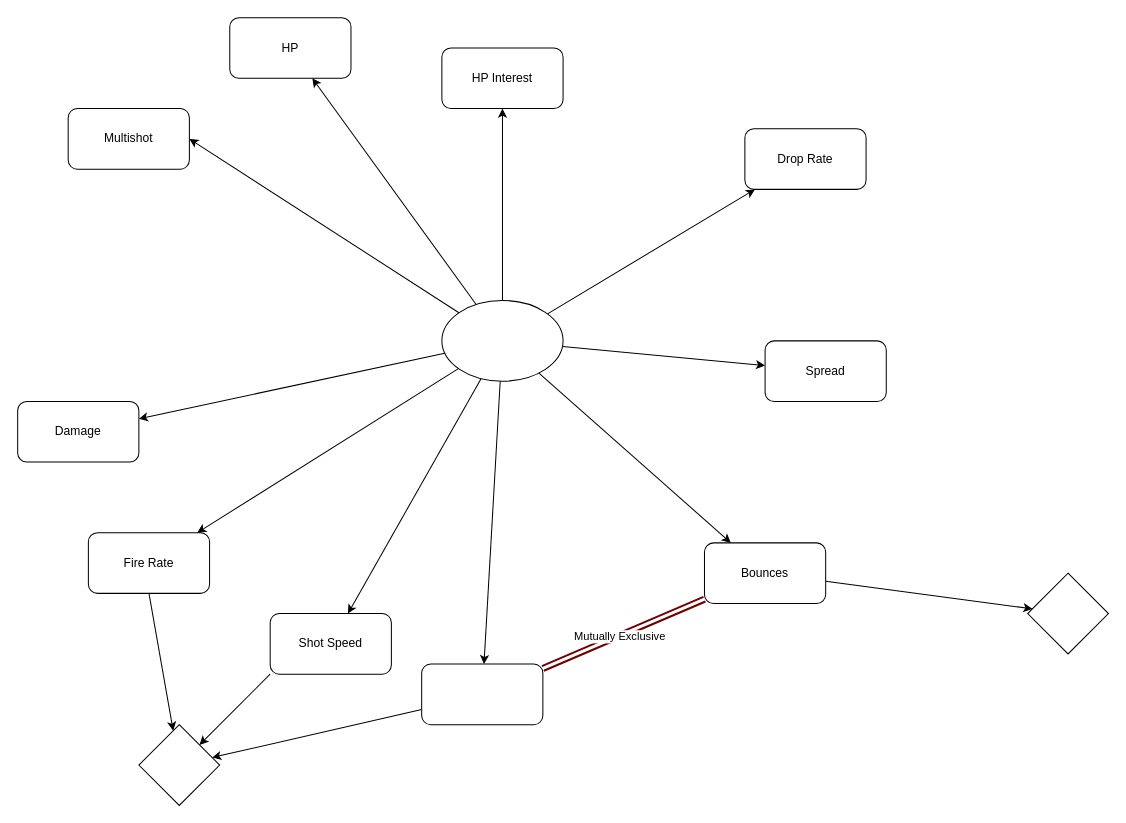
Image size: 1126x823. Some labels were removed from this diagram. Each missing label, with the centre of its shape:
"Base Upgrades (available from beginning)" belongs at (502,340).
"Laser" belongs at (179,764).
"Pierces" belongs at (482,694).
"Wall Bounce" belongs at (1067,613).
